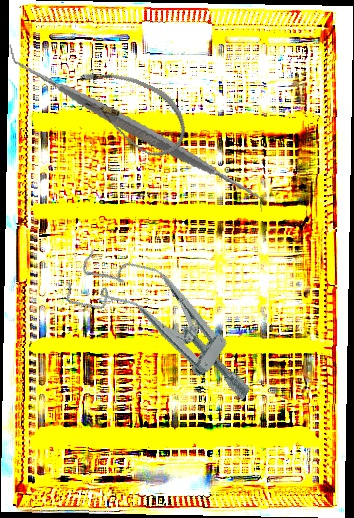Cannula: (62, 58, 198, 165)
Spatula Surgical: (8, 3, 264, 253)
Speculum: (58, 232, 277, 414)
